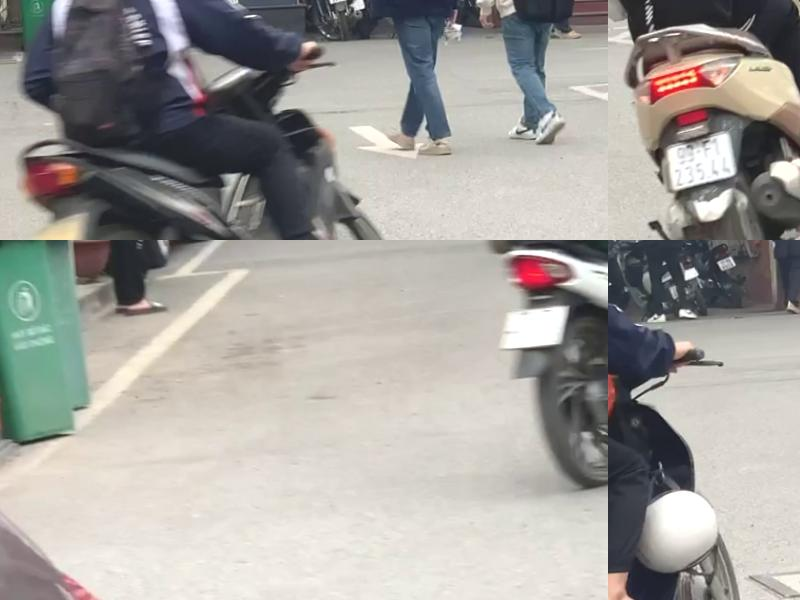license_plate: (660, 133, 736, 198), (498, 308, 571, 357), (713, 260, 735, 279), (679, 269, 697, 285), (325, 0, 345, 8)
motorcyclist: (1, 0, 411, 240), (608, 240, 740, 600), (608, 0, 800, 240), (486, 240, 608, 496)
